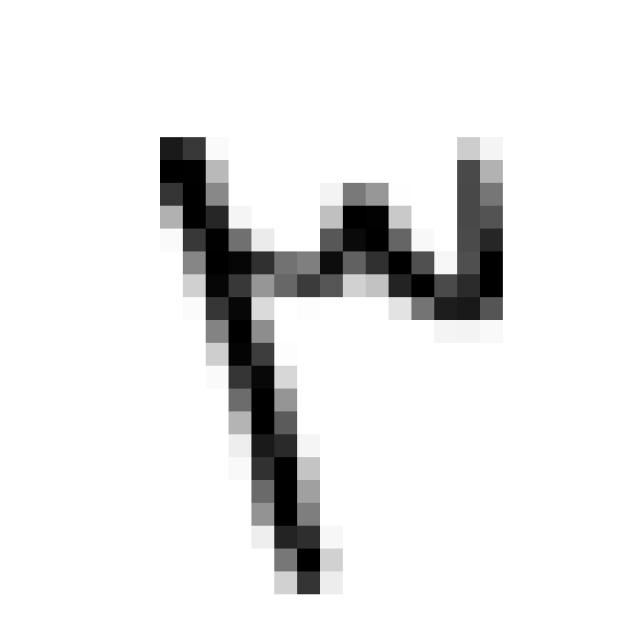3 -three-: (130, 110, 520, 613)
